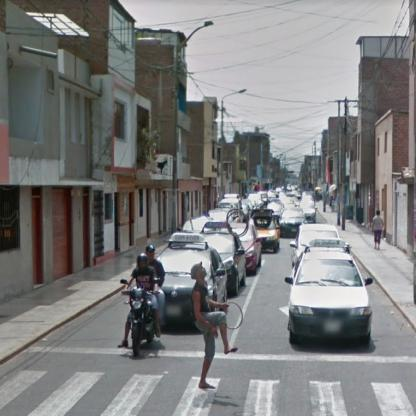Moto: (123, 245, 166, 361)
Peaton: (192, 265, 237, 392), (371, 212, 385, 250)
Pista: (3, 285, 416, 413)
Vehiculo: (289, 252, 371, 353), (158, 235, 226, 329), (205, 231, 247, 298), (293, 226, 340, 266), (229, 222, 261, 276), (251, 218, 281, 253), (283, 208, 307, 238), (301, 202, 317, 222)
